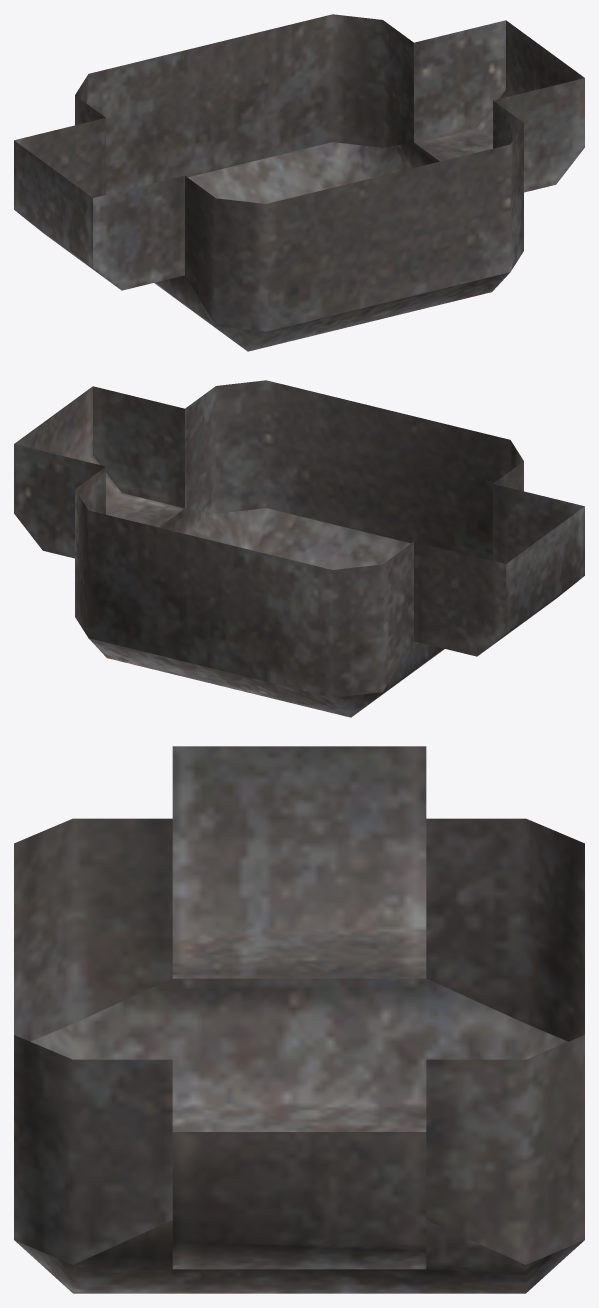
File: ceiling_rail_track_welder.dae
3 renders of one model, top to bottom at view 1: azimuth 30°, elevation 25°; view 2: azimuth 150°, elevation 25°; view 3: azimuth 270°, elevation 25°, orthographic. The views are drawn at different scales.
Parts seen in each view (by area): view 1: welder__2_; view 2: welder__2_; view 3: welder__2_.
Boxes of the visible parts, bbox=[...] form: welder__2_: bbox=[14, 14, 584, 351]; welder__2_: bbox=[14, 380, 584, 717]; welder__2_: bbox=[14, 746, 584, 1293].
Bounding box in the file's own units: 0.3994 × 0.125 × 0.25.
